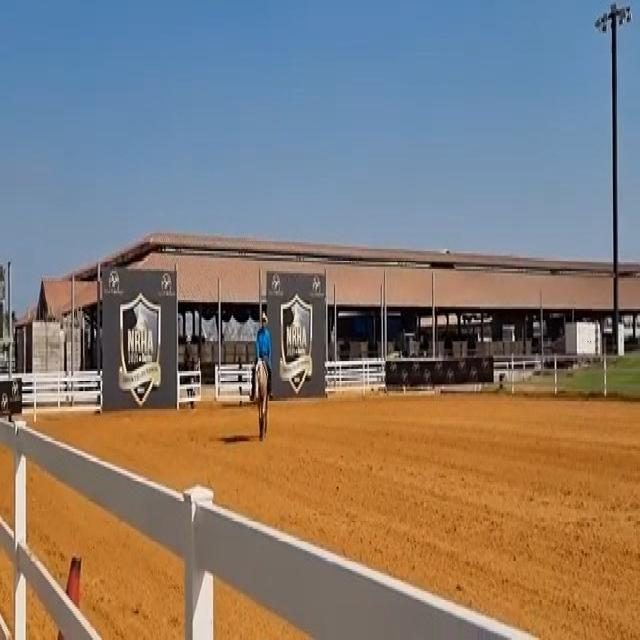horse: (252, 353, 271, 440)
